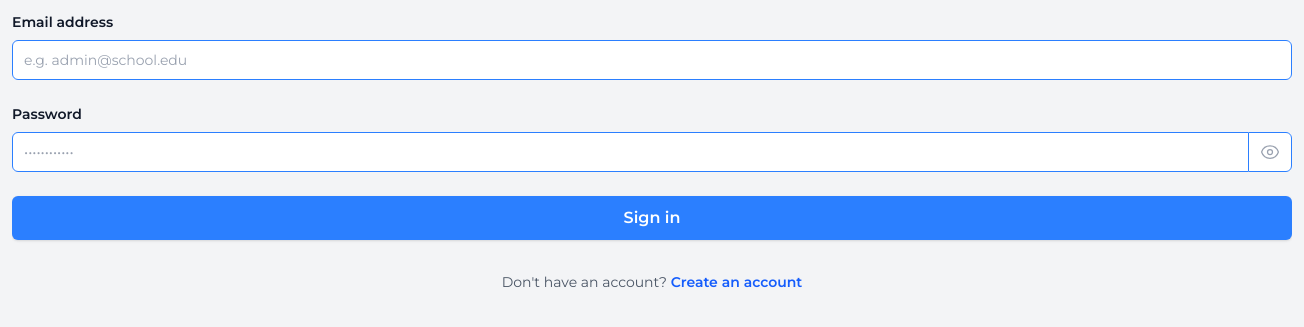
Test: shows field-level validation errors returned by the action
The width and height of the screenshot is (1304, 327).
Type "nope" into the field labelled "Email address" at (652, 60), box [12, 40, 1292, 80]
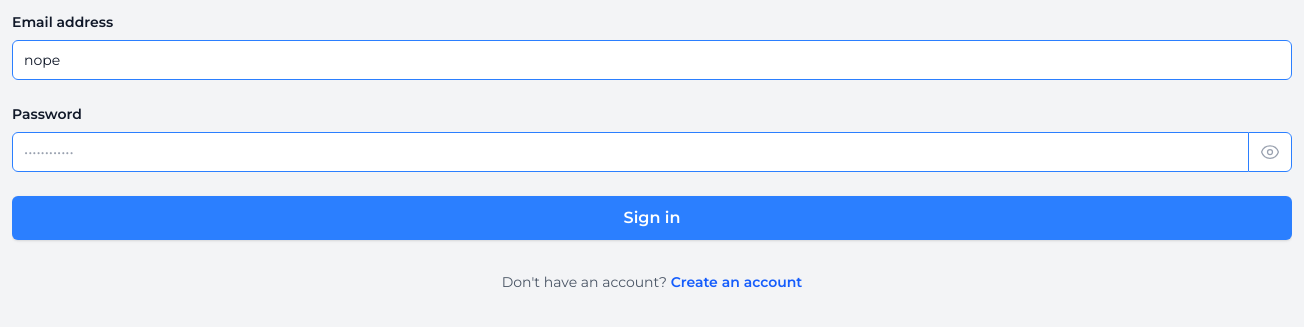
Type "password123" into the password field labelled "Password" at (630, 152), box [12, 132, 1249, 172]
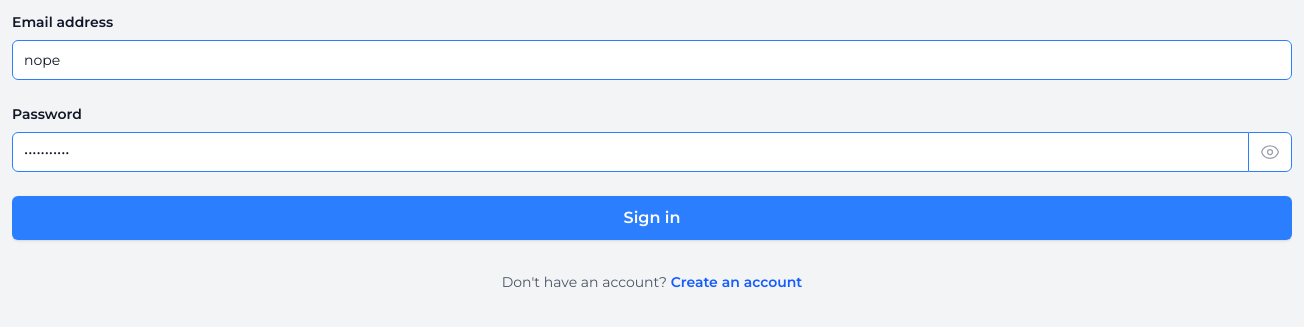
Click the button "Sign in" at (652, 218), box [12, 196, 1292, 240]
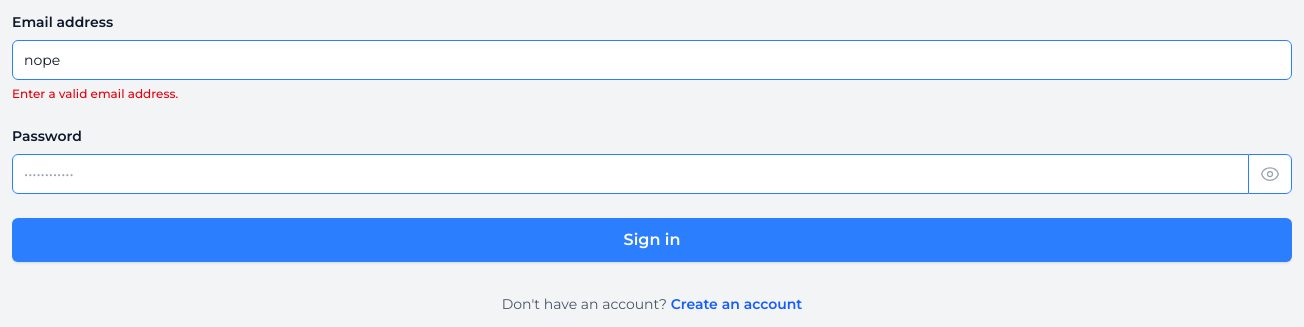
Expected: the text "Enter a valid email address." is shown, [12, 86, 178, 101]
